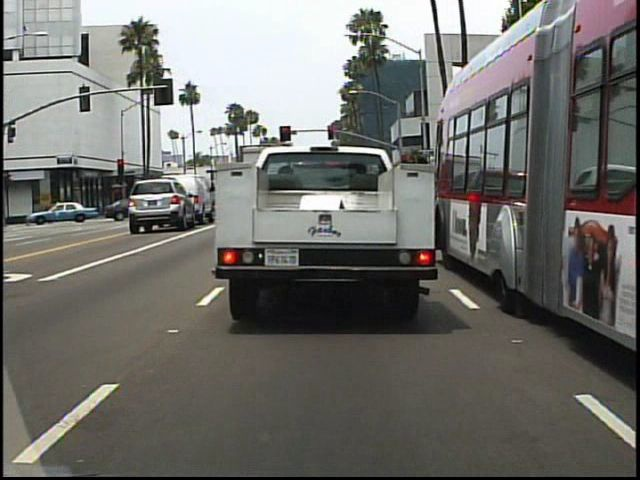person: (41, 194, 61, 226)
